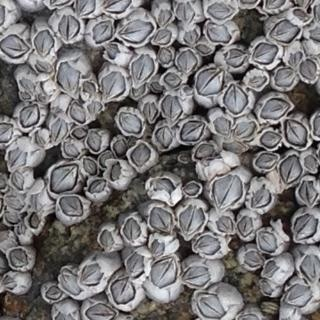Barnacle: (60, 264, 102, 300), (212, 176, 244, 209), (178, 204, 207, 236), (117, 19, 154, 44), (150, 257, 179, 288), (196, 67, 224, 96), (51, 163, 78, 193), (100, 72, 126, 102), (131, 55, 156, 86), (267, 21, 299, 44), (198, 292, 225, 319), (0, 34, 30, 58), (160, 95, 183, 126), (224, 83, 247, 114), (112, 277, 137, 305), (57, 62, 80, 92), (259, 98, 290, 120), (182, 263, 210, 287), (300, 253, 320, 285), (284, 285, 313, 307), (149, 208, 174, 233), (179, 118, 204, 143), (57, 15, 80, 42), (285, 119, 307, 147), (294, 214, 318, 239), (281, 155, 301, 183), (34, 30, 53, 58), (253, 43, 277, 65), (86, 303, 116, 320), (6, 146, 28, 169), (120, 111, 141, 135), (20, 103, 41, 127), (49, 118, 68, 144), (208, 23, 232, 43), (122, 218, 141, 243), (59, 197, 84, 216), (127, 253, 146, 277), (251, 185, 271, 207), (233, 121, 256, 140), (223, 49, 246, 68), (93, 19, 112, 42), (193, 237, 220, 253), (300, 179, 317, 204), (259, 231, 278, 253), (178, 50, 197, 72), (103, 0, 132, 14), (149, 178, 174, 194), (276, 69, 296, 89), (208, 3, 233, 19), (131, 145, 150, 166), (243, 249, 263, 268), (8, 248, 28, 267), (154, 127, 172, 148), (212, 115, 231, 134), (260, 131, 281, 148), (238, 215, 254, 237), (0, 122, 16, 144), (76, 0, 96, 16), (216, 215, 233, 233), (301, 60, 317, 79), (177, 3, 193, 22), (256, 154, 277, 168), (71, 102, 85, 123), (6, 195, 24, 211), (144, 101, 157, 123), (82, 157, 97, 176), (153, 30, 173, 44), (11, 171, 25, 190), (196, 144, 216, 157), (88, 129, 101, 149), (63, 142, 79, 158), (45, 285, 62, 300), (112, 138, 126, 156), (88, 179, 107, 192), (158, 9, 172, 26), (164, 73, 182, 86), (101, 230, 113, 249), (263, 261, 278, 276), (82, 81, 96, 96), (87, 101, 101, 115), (185, 183, 200, 196), (305, 156, 318, 171), (20, 78, 35, 91), (159, 49, 172, 64), (185, 29, 198, 44), (293, 10, 308, 23), (35, 62, 51, 74), (249, 76, 266, 87), (152, 240, 165, 254), (111, 163, 121, 181), (289, 51, 300, 67), (107, 45, 120, 58), (72, 128, 87, 139), (101, 151, 111, 167), (39, 80, 49, 96), (134, 86, 147, 98), (261, 281, 272, 295), (4, 212, 18, 223), (29, 213, 39, 228), (197, 45, 210, 55), (50, 105, 64, 114), (4, 279, 16, 289), (314, 1, 320, 21), (150, 81, 161, 91), (17, 223, 26, 234), (185, 86, 194, 96), (20, 92, 30, 100)
